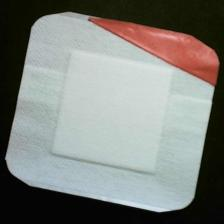Dressing: (6, 11, 224, 216)
Red_T: (87, 13, 223, 93)
